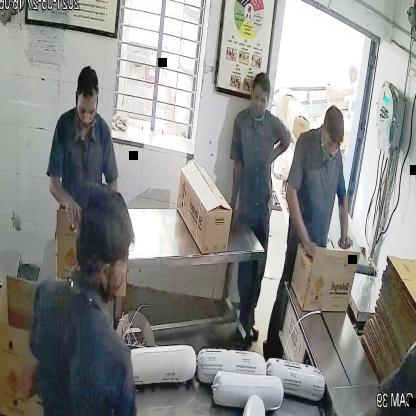no_goggles: (74, 99, 99, 123), (319, 137, 343, 157)
